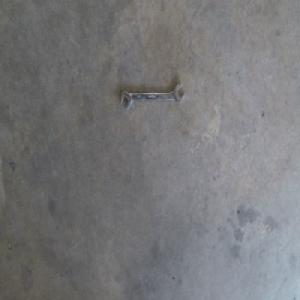Wrench: (118, 83, 184, 110)
